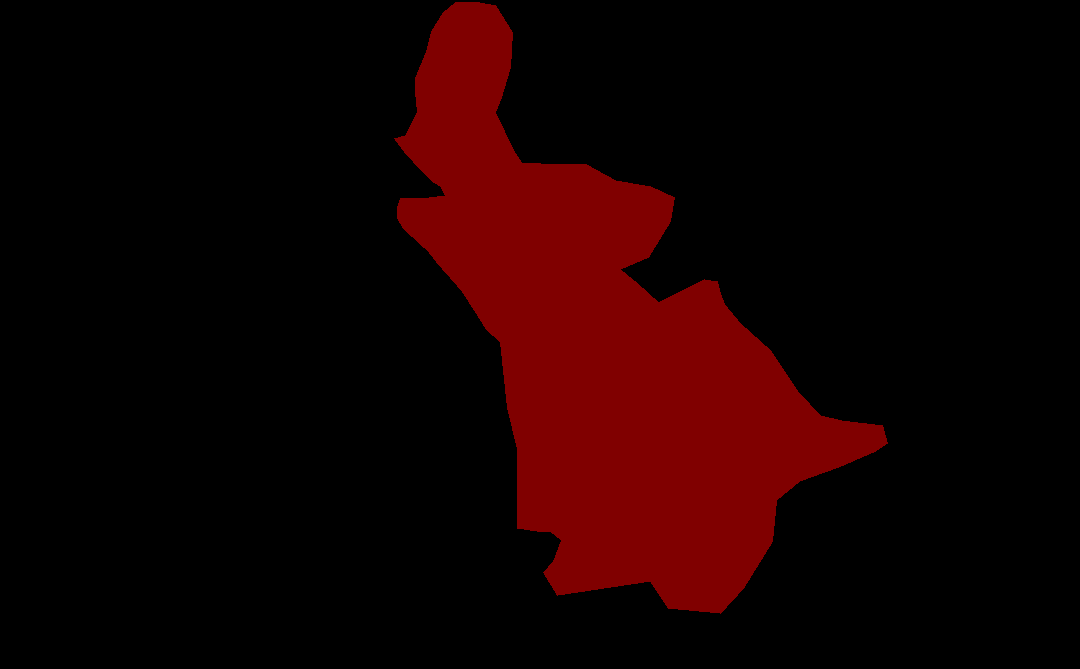fire: (394, 2, 887, 613)
